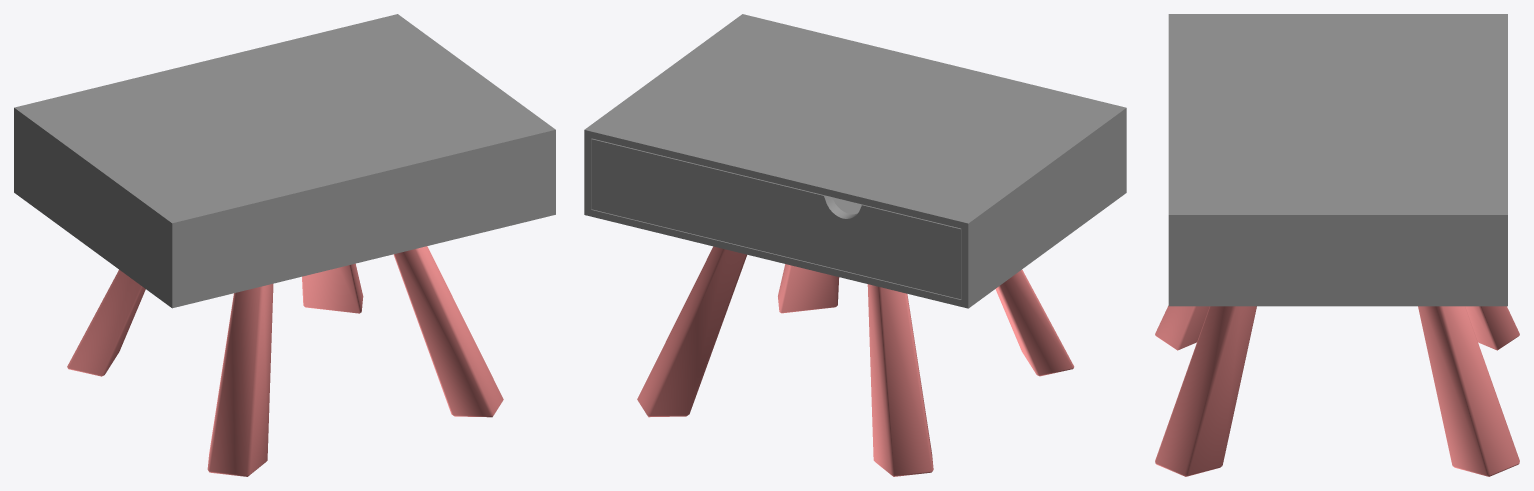
File: comodino.FBX
3 renders of one model, left to right at view 1: azimuth 30°, elevation 25°; view 2: azimuth 150°, elevation 25°; view 3: azimuth 270°, elevation 25°, orthographic. The views are drawn at different scales.
Parts seen in each view (by area): view 1: comodino:Cube_1; view 2: comodino:Cube_1; view 3: comodino:Cube_1.
Boxes of the visible parts, x1,y1,x2,y2 form: comodino:Cube_1: (14,14,555,476); comodino:Cube_1: (584,14,1126,476); comodino:Cube_1: (1155,14,1519,476).
Size of the model in its own units: 53.72 by 35.62 by 41.22.
